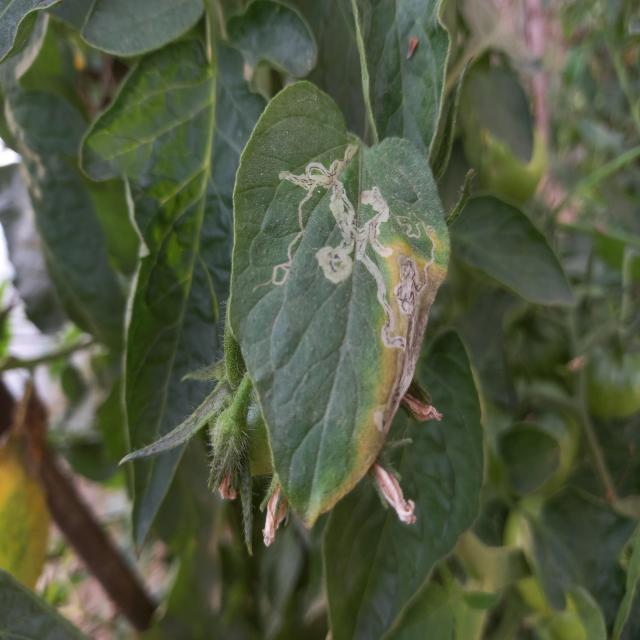Tuta absoluta: (279, 139, 443, 366), (382, 220, 443, 319), (267, 219, 311, 288), (393, 213, 435, 242), (295, 174, 318, 220), (279, 170, 304, 185)
